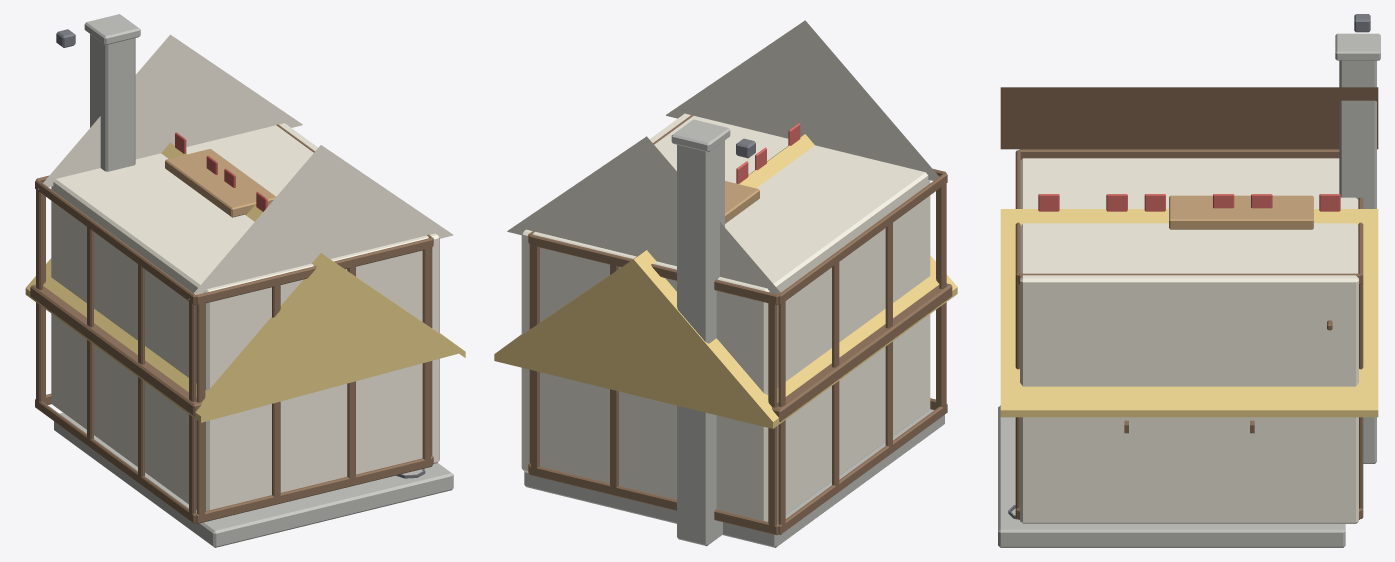
The model's file is town_village_tavern.glb.
3 views of the same model, side by side, from view 1: azimuth 30°, elevation 25°; view 2: azimuth 150°, elevation 25°; view 3: azimuth 270°, elevation 25° (orthographic). The views are drawn at different scales.
Parts seen in each view (by area): view 1: world; view 2: world; view 3: world.
Part boxes in pixels (x1=…): world: x1=25, y1=14, x2=465, y2=547; world: x1=494, y1=20, x2=957, y2=547; world: x1=998, y1=14, x2=1380, y2=547.
Size of the model in its own units: 1.54 by 2 by 1.65.
